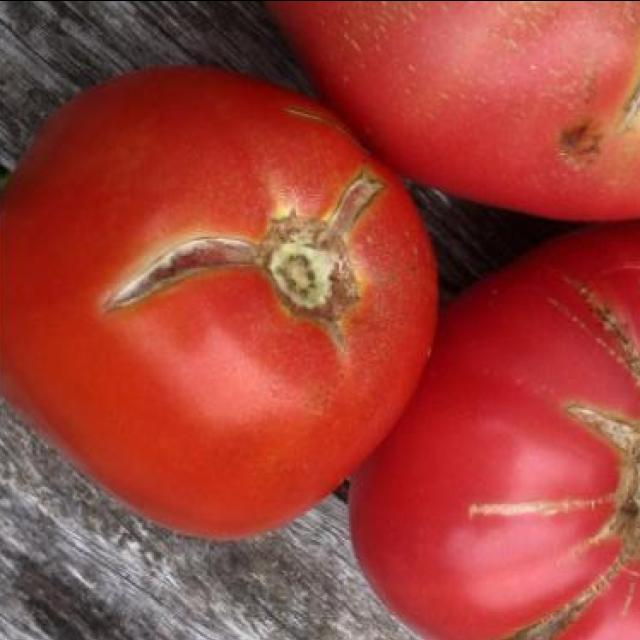Healthy: (490, 526, 640, 640)
